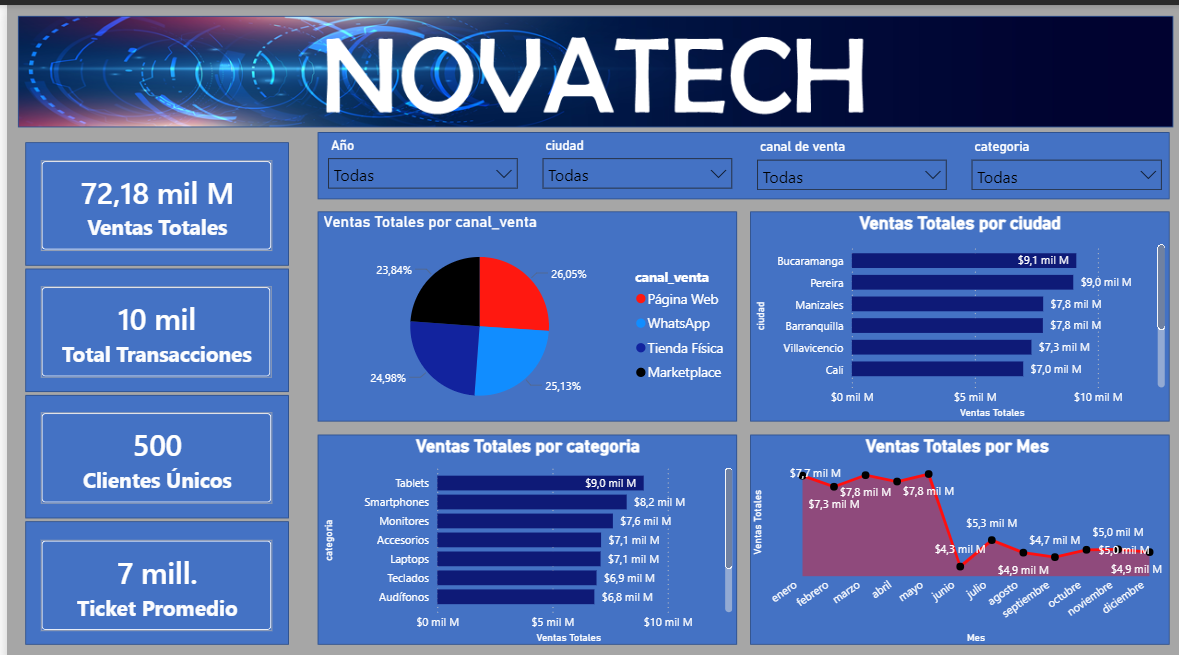

The dashboard page shown, as its layout file describes it:
{"tool":"powerbi","page":{"name":"DASHBOARD","canvas":[1280,720],"ordinal":0},"visuals":[{"type":"cardVisual","fields":{"Data":["Medidas.Ventas Totales"]},"box":[20,151.9,285.6,132.5],"z":0},{"type":"pieChart","fields":{"Category":["ventas.canal_venta"],"Y":["Medidas.Ventas Totales"]},"box":[337.9,225.3,452.6,227.9],"z":1000},{"type":"clusteredBarChart","fields":{"Y":["Medidas.Ventas Totales"],"Category":["productos.categoria"]},"box":[337.7,466.9,453.1,229.2],"z":2000},{"type":"lineChart","fields":{"Category":["Calendario.Mes"],"Y":["Medidas.Ventas Totales"]},"box":[803.8,466.9,453.8,229.2],"z":3000},{"type":"clusteredBarChart","fields":{"Category":["clientes.ciudad"],"Y":["Medidas.Ventas Totales"]},"box":[807.4,225.3,453.7,227.9],"z":4000},{"type":"cardVisual","fields":{"Data":["Medidas.Total Transacciones"]},"box":[20,288,284.7,133.3],"z":5000},{"type":"cardVisual","fields":{"Data":["Medidas.Clientes Únicos"]},"box":[19.3,425.3,285.3,133.3],"z":6000},{"type":"cardVisual","fields":{"Data":["Medidas.Ticket Promedio"]},"box":[20,563.3,285.3,133.3],"z":7000},{"type":"slicer","fields":{"Values":["Calendario.Año"]},"box":[338.6,138.6,225,70],"z":8000},{"type":"slicer","fields":{"Values":["clientes.ciudad"]},"box":[571,139,225,70],"z":9000},{"type":"slicer","fields":{"Values":["ventas.canal_venta"]},"box":[803.3,139.5,225,70],"z":10000},{"type":"slicer","fields":{"Values":["productos.categoria"]},"box":[1035.7,140,225.7,70],"z":11000}]}

Visuals, with their boxes in screenshot pixels (x1, y1, x2, y2), scaled from the page's 1280x720 canvas onto the 1179x655 screenshot:
cardVisual - Medidas.Ventas Totales: box=[18, 138, 281, 259]
pieChart - ventas.canal_venta x Medidas.Ventas Totales: box=[311, 205, 728, 412]
clusteredBarChart - Medidas.Ventas Totales x productos.categoria: box=[311, 425, 728, 633]
lineChart - Calendario.Mes x Medidas.Ventas Totales: box=[740, 425, 1158, 633]
clusteredBarChart - clientes.ciudad x Medidas.Ventas Totales: box=[744, 205, 1162, 412]
cardVisual - Medidas.Total Transacciones: box=[18, 262, 281, 383]
cardVisual - Medidas.Clientes Únicos: box=[18, 387, 281, 508]
cardVisual - Medidas.Ticket Promedio: box=[18, 512, 281, 634]
slicer - Calendario.Año: box=[312, 126, 519, 190]
slicer - clientes.ciudad: box=[526, 126, 733, 190]
slicer - ventas.canal_venta: box=[740, 127, 947, 191]
slicer - productos.categoria: box=[954, 127, 1162, 191]
